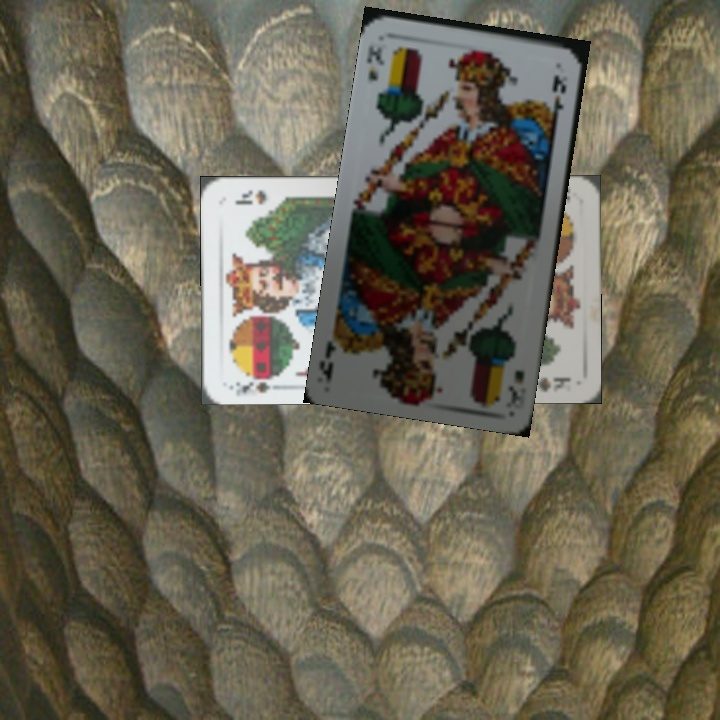EK: (363, 41, 388, 84), (504, 365, 526, 408)
SK: (226, 369, 285, 396)
